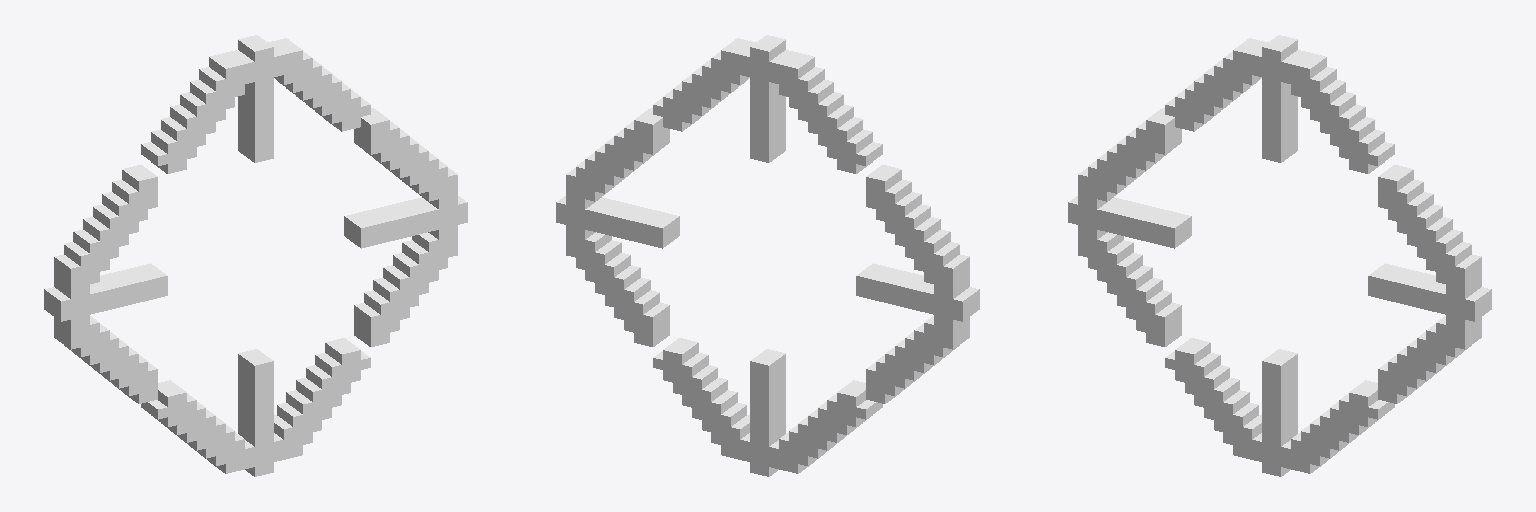
The model's file is Reverse.obj.
3 views of the same model, side by side, from view 1: azimuth 30°, elevation 25°; view 2: azimuth 150°, elevation 25°; view 3: azimuth 330°, elevation 25° (orthographic).
Visible parts, largest first — view 1: object 1; view 2: object 1; view 3: object 1.
Part boxes in pixels (left/top/right/bottom): object 1: left=44, top=35, right=467, bottom=476; object 1: left=556, top=35, right=979, bottom=476; object 1: left=1068, top=35, right=1491, bottom=476.
Bounding box in the file's own units: 4.2 × 4.2 × 0.3.